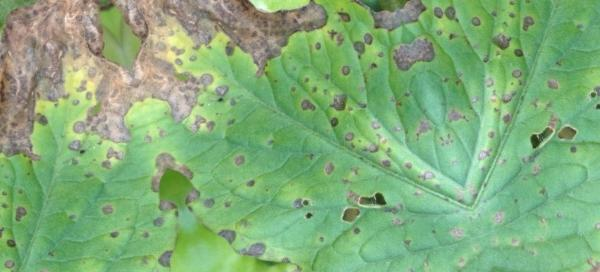Tomato Septoria leaf spot: (79, 0, 510, 272)
